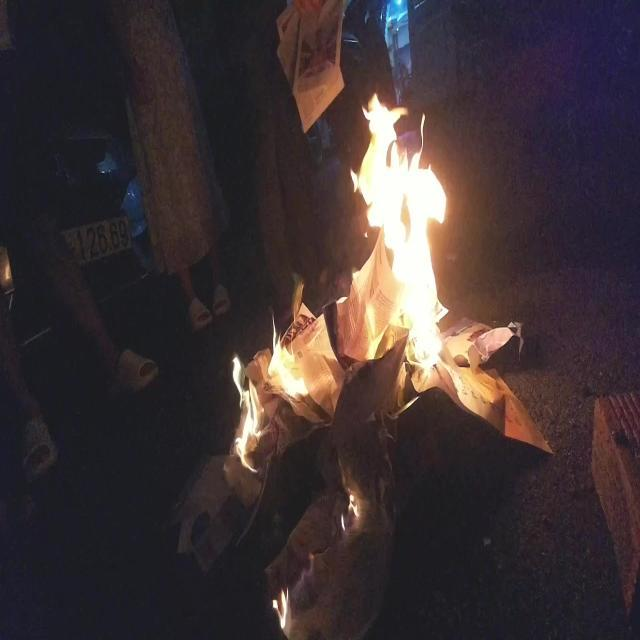Fire: (348, 90, 446, 378), (232, 269, 306, 476), (340, 492, 360, 532), (271, 586, 290, 628)
